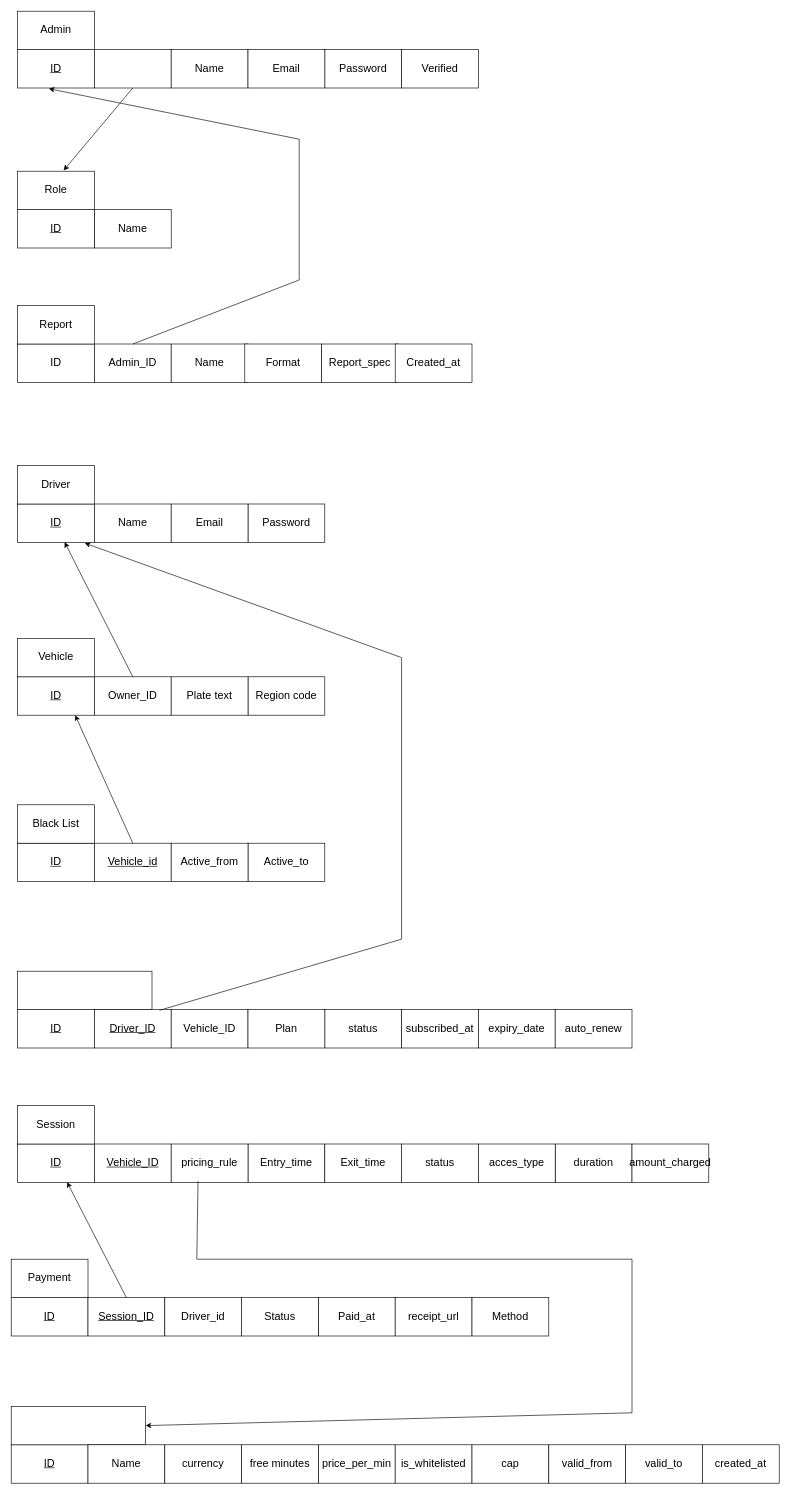
Image size: 790x1494. Some labels were removed from this diagram. The shapes that lost their labels are listed below. From the top down, each one's centre as x and y in pixels, then its label:
At (x=132, y=68): "Role_ID".
At (x=84, y=990): "Subscription(WhiteListed)".
At (x=78, y=1425): "Tarrif".
